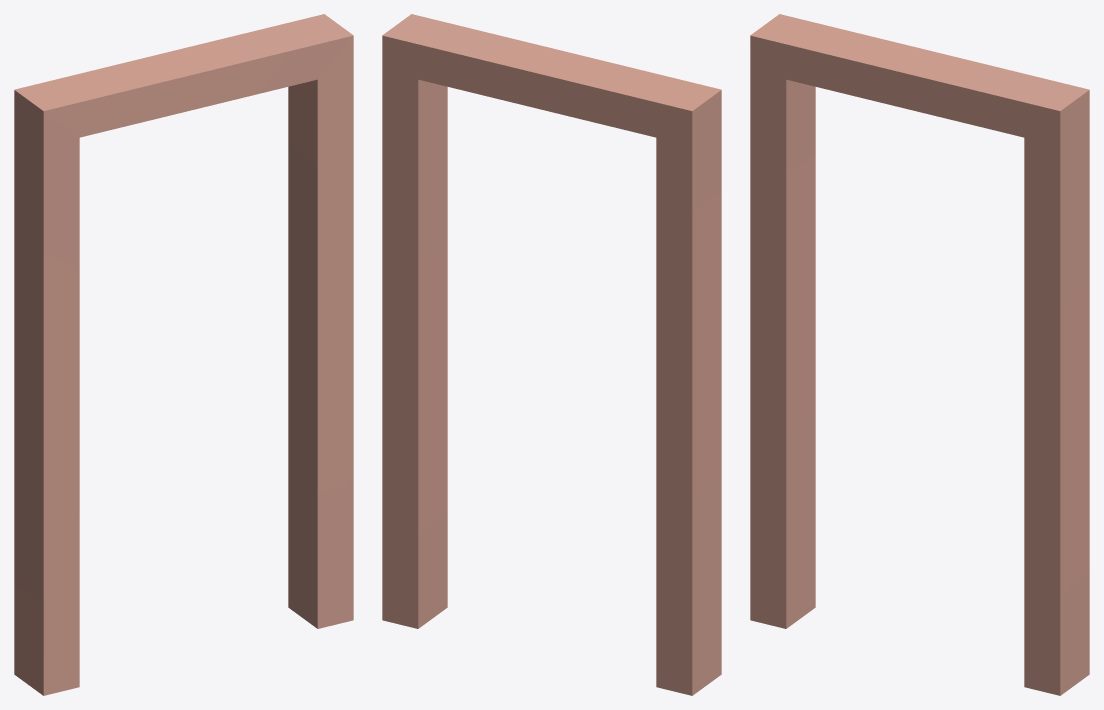
The model's file is door_016.glb.
3 views of the same model, side by side, from view 1: azimuth 30°, elevation 25°; view 2: azimuth 150°, elevation 25°; view 3: azimuth 330°, elevation 25° (orthographic).
Parts seen in each view (by area): view 1: door_016; view 2: door_016; view 3: door_016.
Part boxes in pixels (x1,y1,x2,y2): door_016: [14, 14, 353, 695]; door_016: [382, 14, 721, 695]; door_016: [750, 14, 1089, 695].
Bounding box in the file's own units: 1.34 × 2.41 × 0.2204.
1 material, 1 textured.
